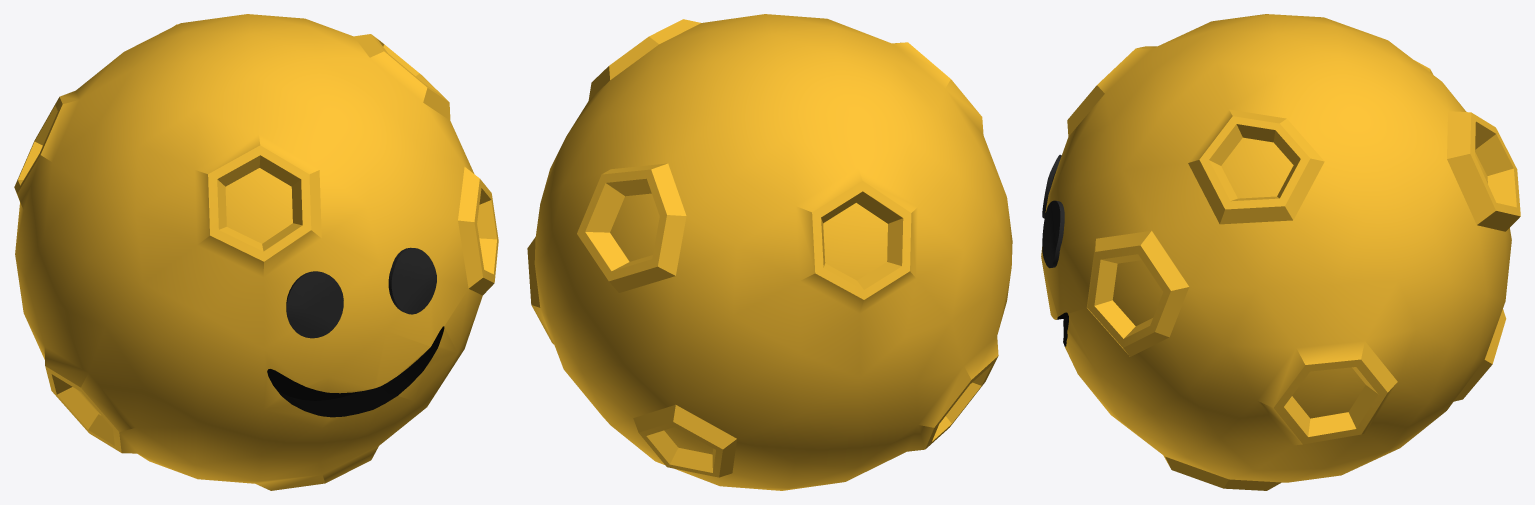
Rendered from full_moon_face.glb.
3 views of the same model, side by side, from view 1: azimuth 30°, elevation 25°; view 2: azimuth 150°, elevation 25°; view 3: azimuth 270°, elevation 25° (orthographic).
Visible parts, largest first — view 1: Icosphere.009, Circle.2110; view 2: Icosphere.009; view 3: Icosphere.009, Circle.2110.
Boxes of the visible parts, x1,y1,x2,y2 form: Icosphere.009: (14,14,498,490); Circle.2110: (286,247,436,338); Icosphere.009: (527,14,1012,490); Icosphere.009: (1041,14,1520,490); Circle.2110: (1042,154,1064,268).
Size of the model in its own units: 2.03 by 2.04 by 2.03.
Materials: 1 (1 with a texture image).
